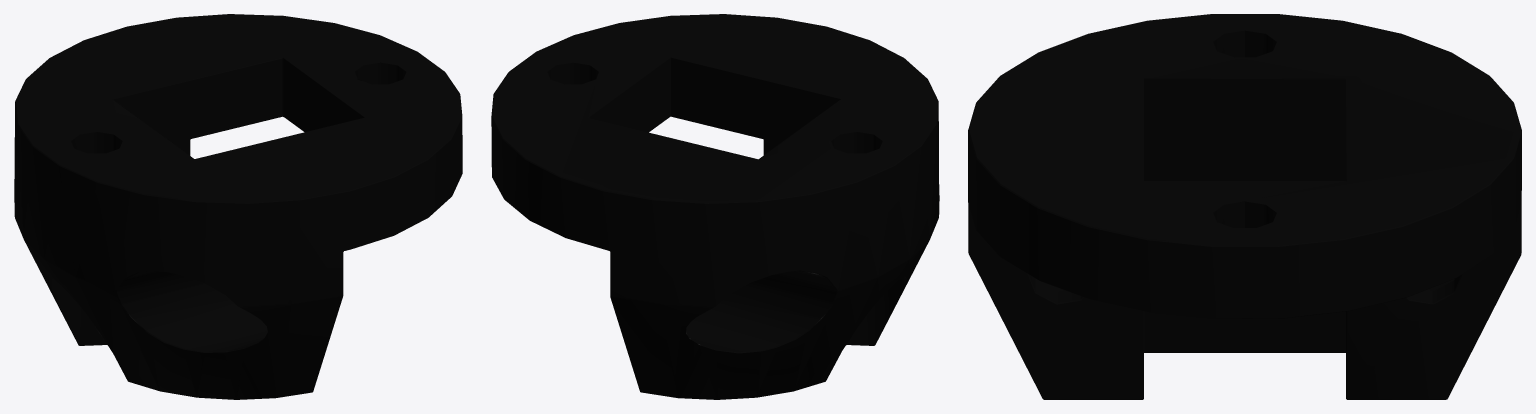
Rendered from koleso_kreplenie.fbx.
3 views of the same model, side by side, from view 1: azimuth 30°, elevation 25°; view 2: azimuth 150°, elevation 25°; view 3: azimuth 270°, elevation 25° (orthographic). The views are drawn at different scales.
Parts seen in each view (by area): view 1: koleso_kreplenie.001; view 2: koleso_kreplenie.001; view 3: koleso_kreplenie.001.
Boxes of the visible parts, <box> form: koleso_kreplenie.001: <box>14,14,462,399</box>; koleso_kreplenie.001: <box>491,14,939,399</box>; koleso_kreplenie.001: <box>968,14,1521,399</box>.
Size of the model in its own units: 2.73 by 1.5 by 2.74.
Materials: 1 (1 with a texture image).
